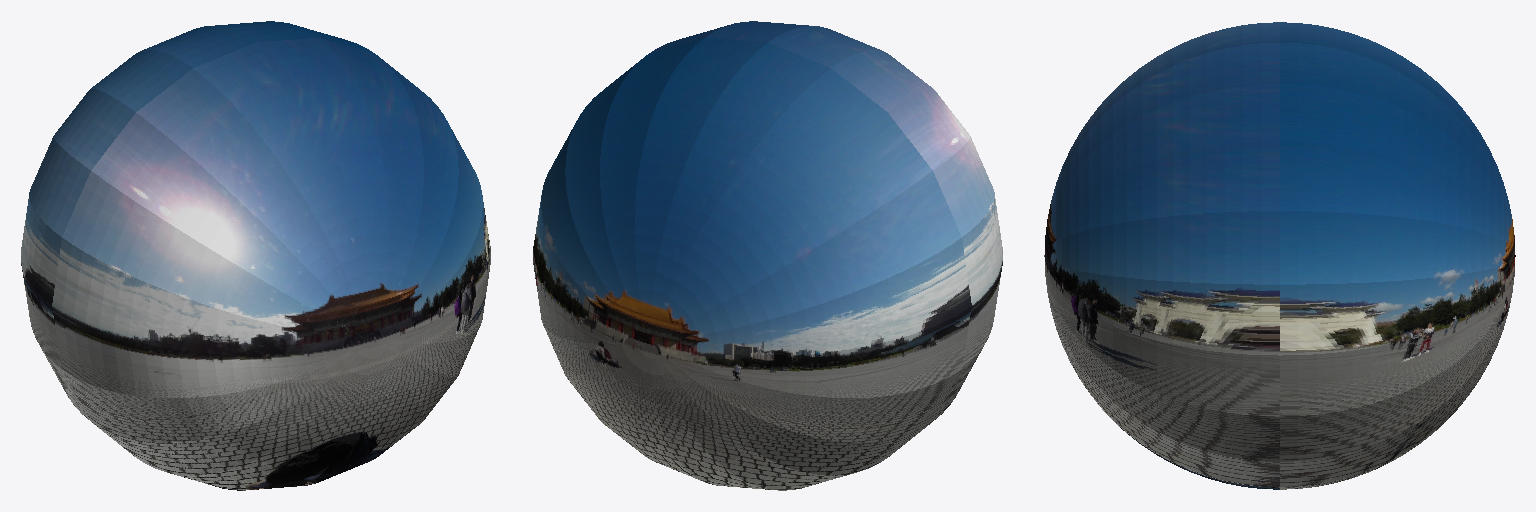
The picture shows the model from 3 angles: view 1: azimuth 30°, elevation 25°; view 2: azimuth 150°, elevation 25°; view 3: azimuth 270°, elevation 25°; orthographic projection.
Size of the model in its own units: 400 by 400 by 400.
Materials: 1 (1 with a texture image).